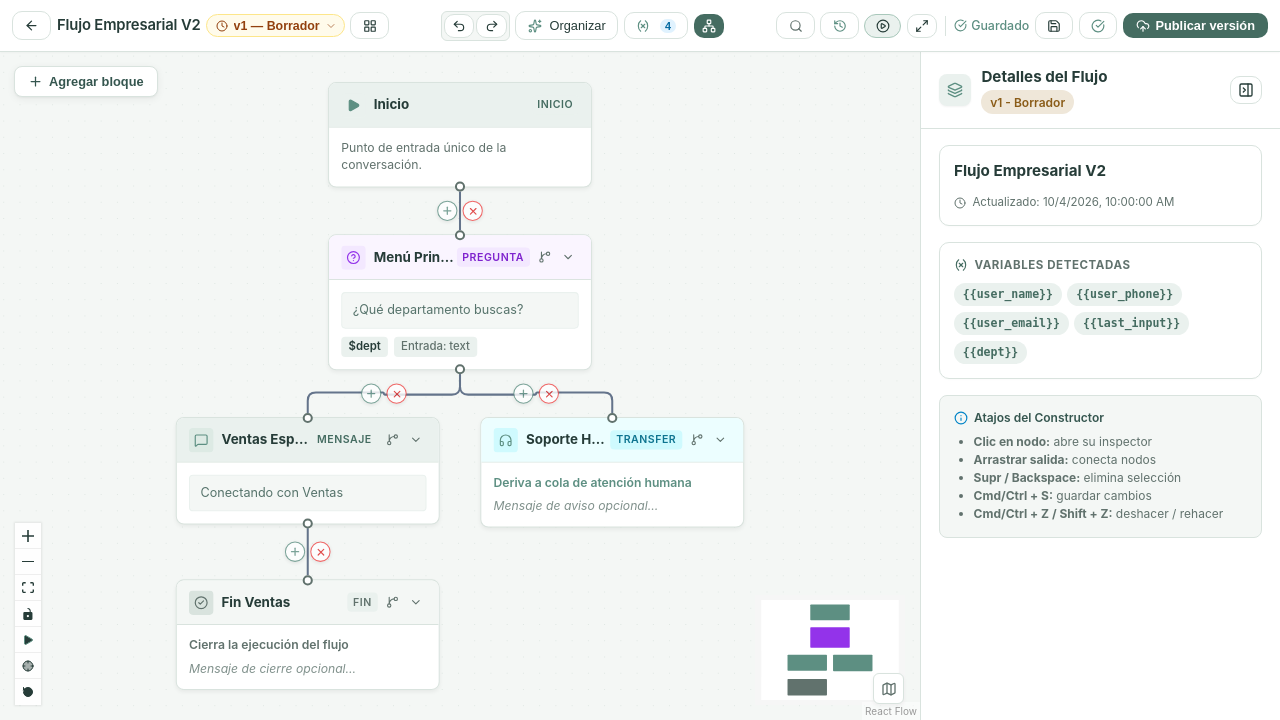
FlowEditor V2 Enhancements › renders search button and opens in-editor search modal
Later steps or results of the test are not shown.
Click the button named "Buscar".
click(796, 26)  # box [776,12,815,39]
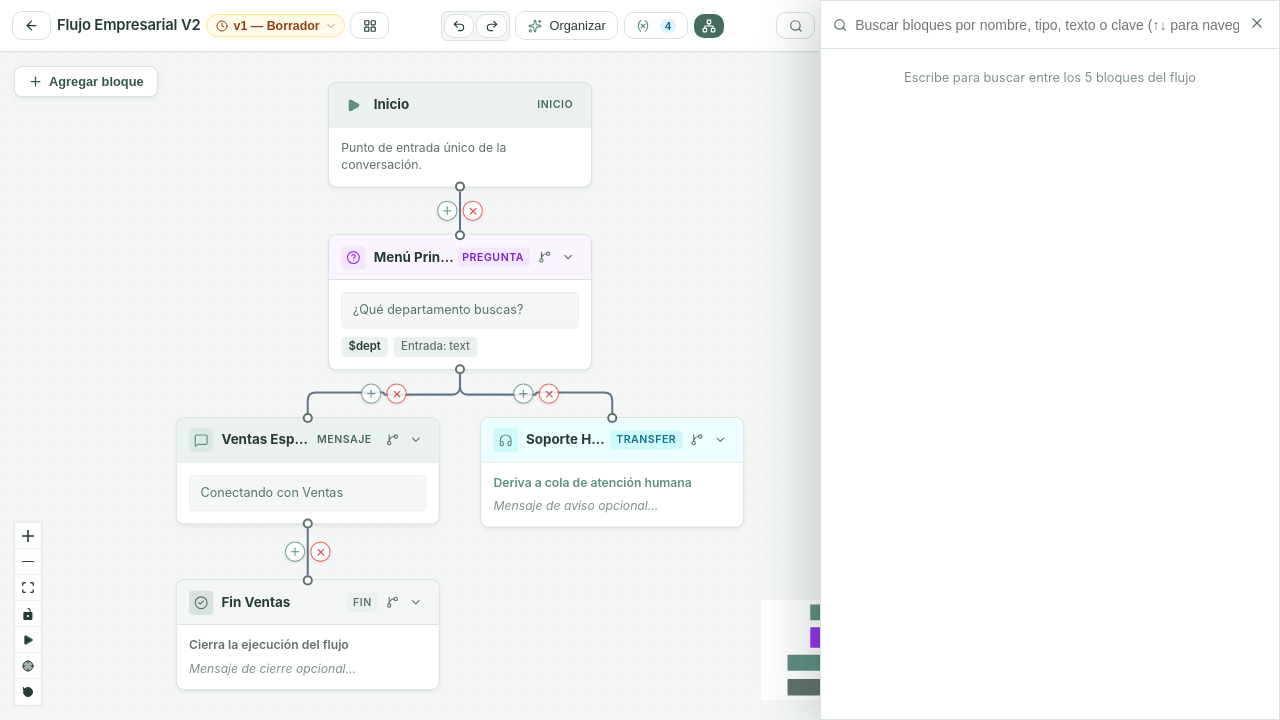
Expected: the field with placeholder "Buscar bloques por nombre" is shown, [855,16,1239,32]
